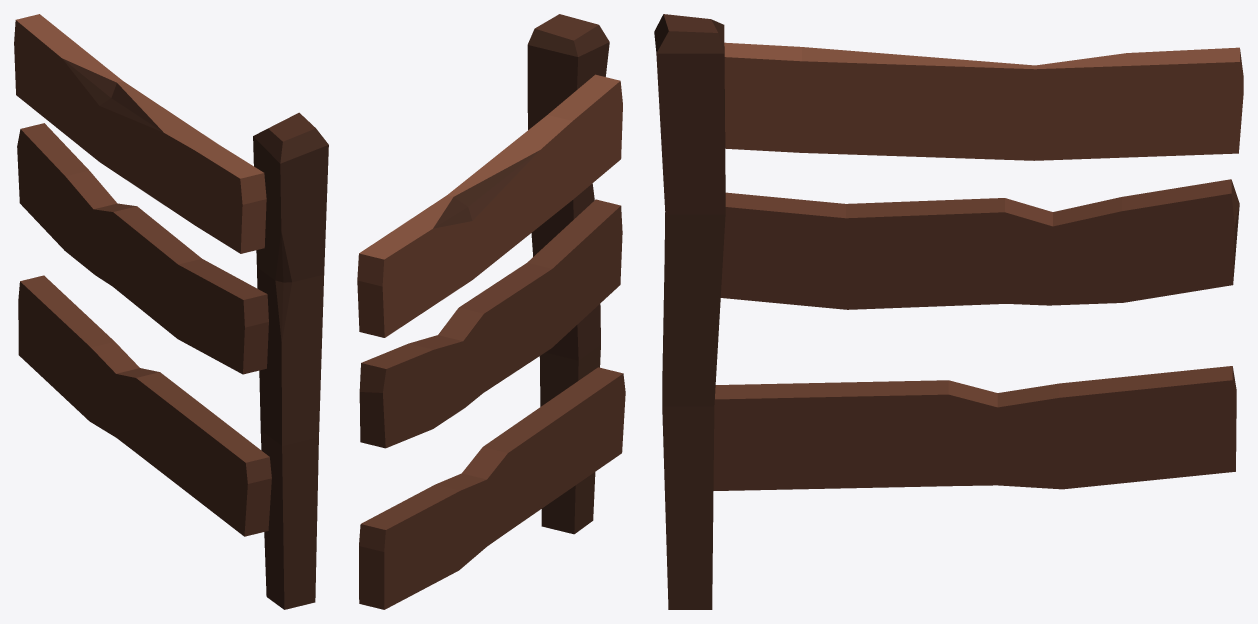
Rendered from FenceWoodSmall_01.glb.
3 views of the same model, side by side, from view 1: azimuth 30°, elevation 25°; view 2: azimuth 150°, elevation 25°; view 3: azimuth 270°, elevation 25° (orthographic). The views are drawn at different scales.
Visible parts, largest first — view 1: FenceWoodSmall_01; view 2: FenceWoodSmall_01; view 3: FenceWoodSmall_01.
Part boxes in pixels (box(x1,y1,x2,y2)): FenceWoodSmall_01: box(14, 14, 328, 609); FenceWoodSmall_01: box(357, 14, 625, 609); FenceWoodSmall_01: box(654, 14, 1243, 609).
Size of what is drawn, in the model's own units: 0.1982 by 1.2 by 1.11.
Materials: 1 (1 with a texture image).
